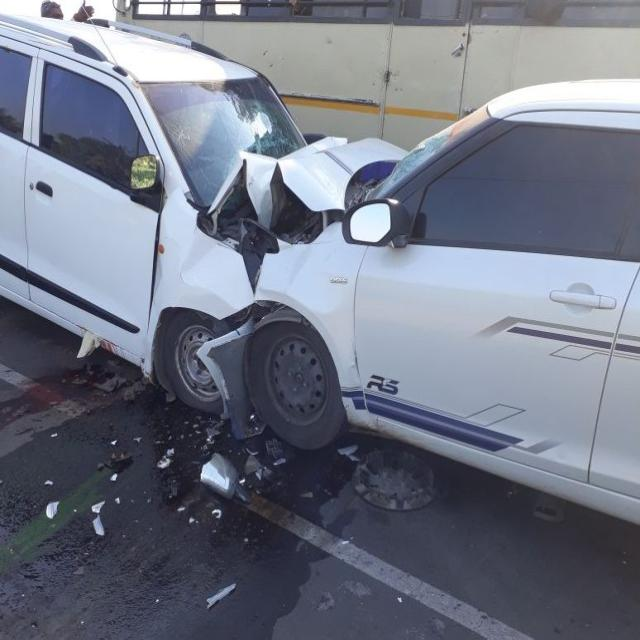accident: (200, 80, 640, 522), (0, 14, 316, 412)
